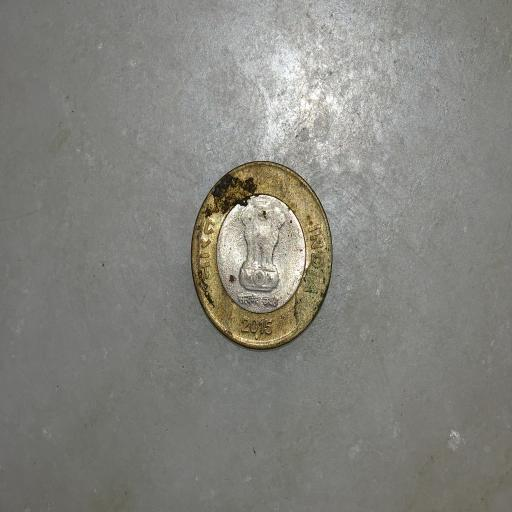rupee10: (190, 159, 335, 350)
